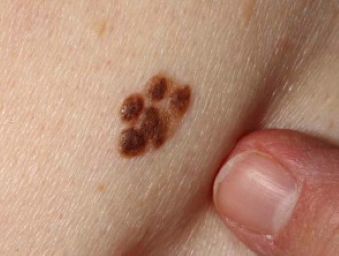seborrheic keratosis: (101, 68, 214, 163)
